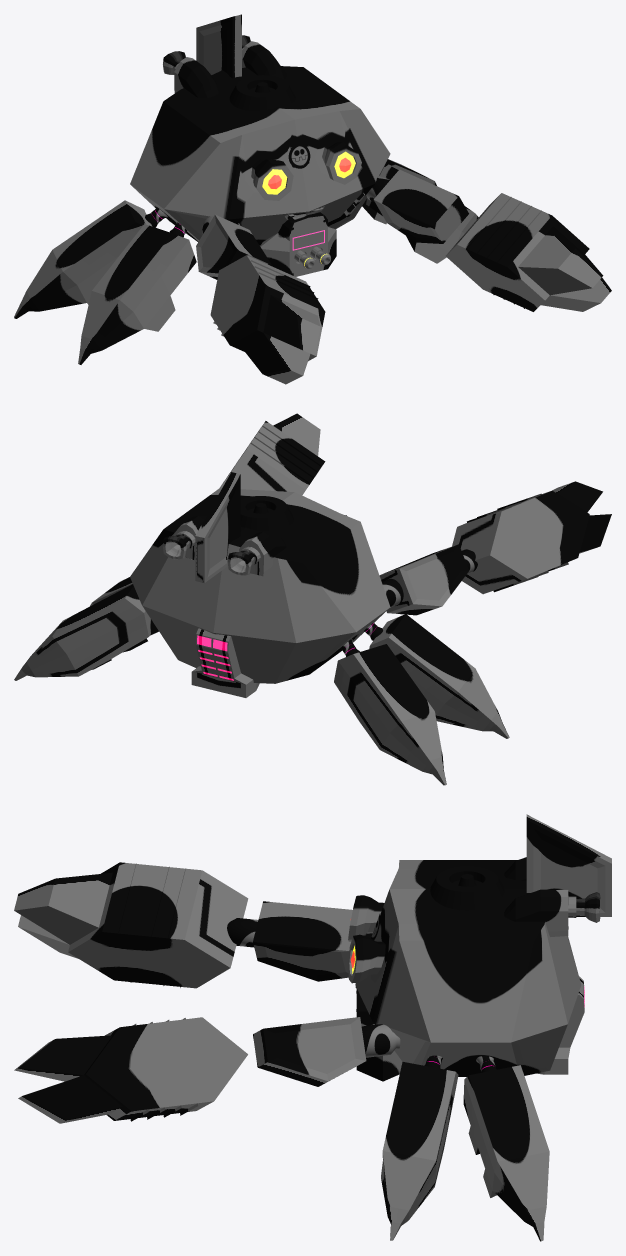
The model's file is crab.glb.
The picture shows the model from 3 angles, top to bottom: view 1: azimuth 30°, elevation 25°; view 2: azimuth 150°, elevation 25°; view 3: azimuth 270°, elevation 25°; orthographic projection. The views are drawn at different scales.
Visible parts, largest first — view 1: Cube.038, Cube.029, Cube.032, Cube.031, Cube.028, Cube.037, Cube.034, Cube.033, Circle.005; view 2: Cube.038, Cube.029, Cube.031, Cube.032, Cube.028, Cube.033, Cube.034, Cube.037, Circle.005; view 3: Cube.029, Cube.038, Cube.028, Cube.031, Cube.032, Cube.033, Cube.034, Circle.005, Cube.037, Cylinder.020, Cylinder.019.
Part boxes in pixels (x1,y1,x2,y2): Cube.038: (130,66,390,245); Cube.029: (210,193,611,384); Cube.032: (78,164,478,364); Cube.031: (14,159,436,318); Cube.028: (196,169,468,279); Cube.037: (260,212,336,276); Cube.034: (163,35,286,98); Cube.033: (196,14,241,78); Circle.005: (229,75,295,110); Cube.038: (130,487,390,683); Cube.029: (220,413,611,594); Cube.031: (14,584,446,785); Cube.032: (90,577,509,738); Cube.028: (379,544,468,615); Cube.033: (195,472,240,582); Cube.034: (163,515,286,576); Cube.037: (191,628,259,697); Circle.005: (240,496,293,531); Cube.029: (14,862,248,1123); Cube.038: (348,860,581,1076); Cube.028: (253,901,366,1086); Cube.031: (463,1065,549,1241); Cube.032: (381,1062,458,1240); Cube.033: (526,814,611,916); Cube.034: (504,857,600,936); Circle.005: (430,865,504,910); Cube.037: (356,976,584,1081); Cylinder.020: (361,933,400,1057); Cylinder.019: (227,918,258,947).
Size of the model in its own units: 44.56 by 25.14 by 45.22.
16 materials, 16 textured.
